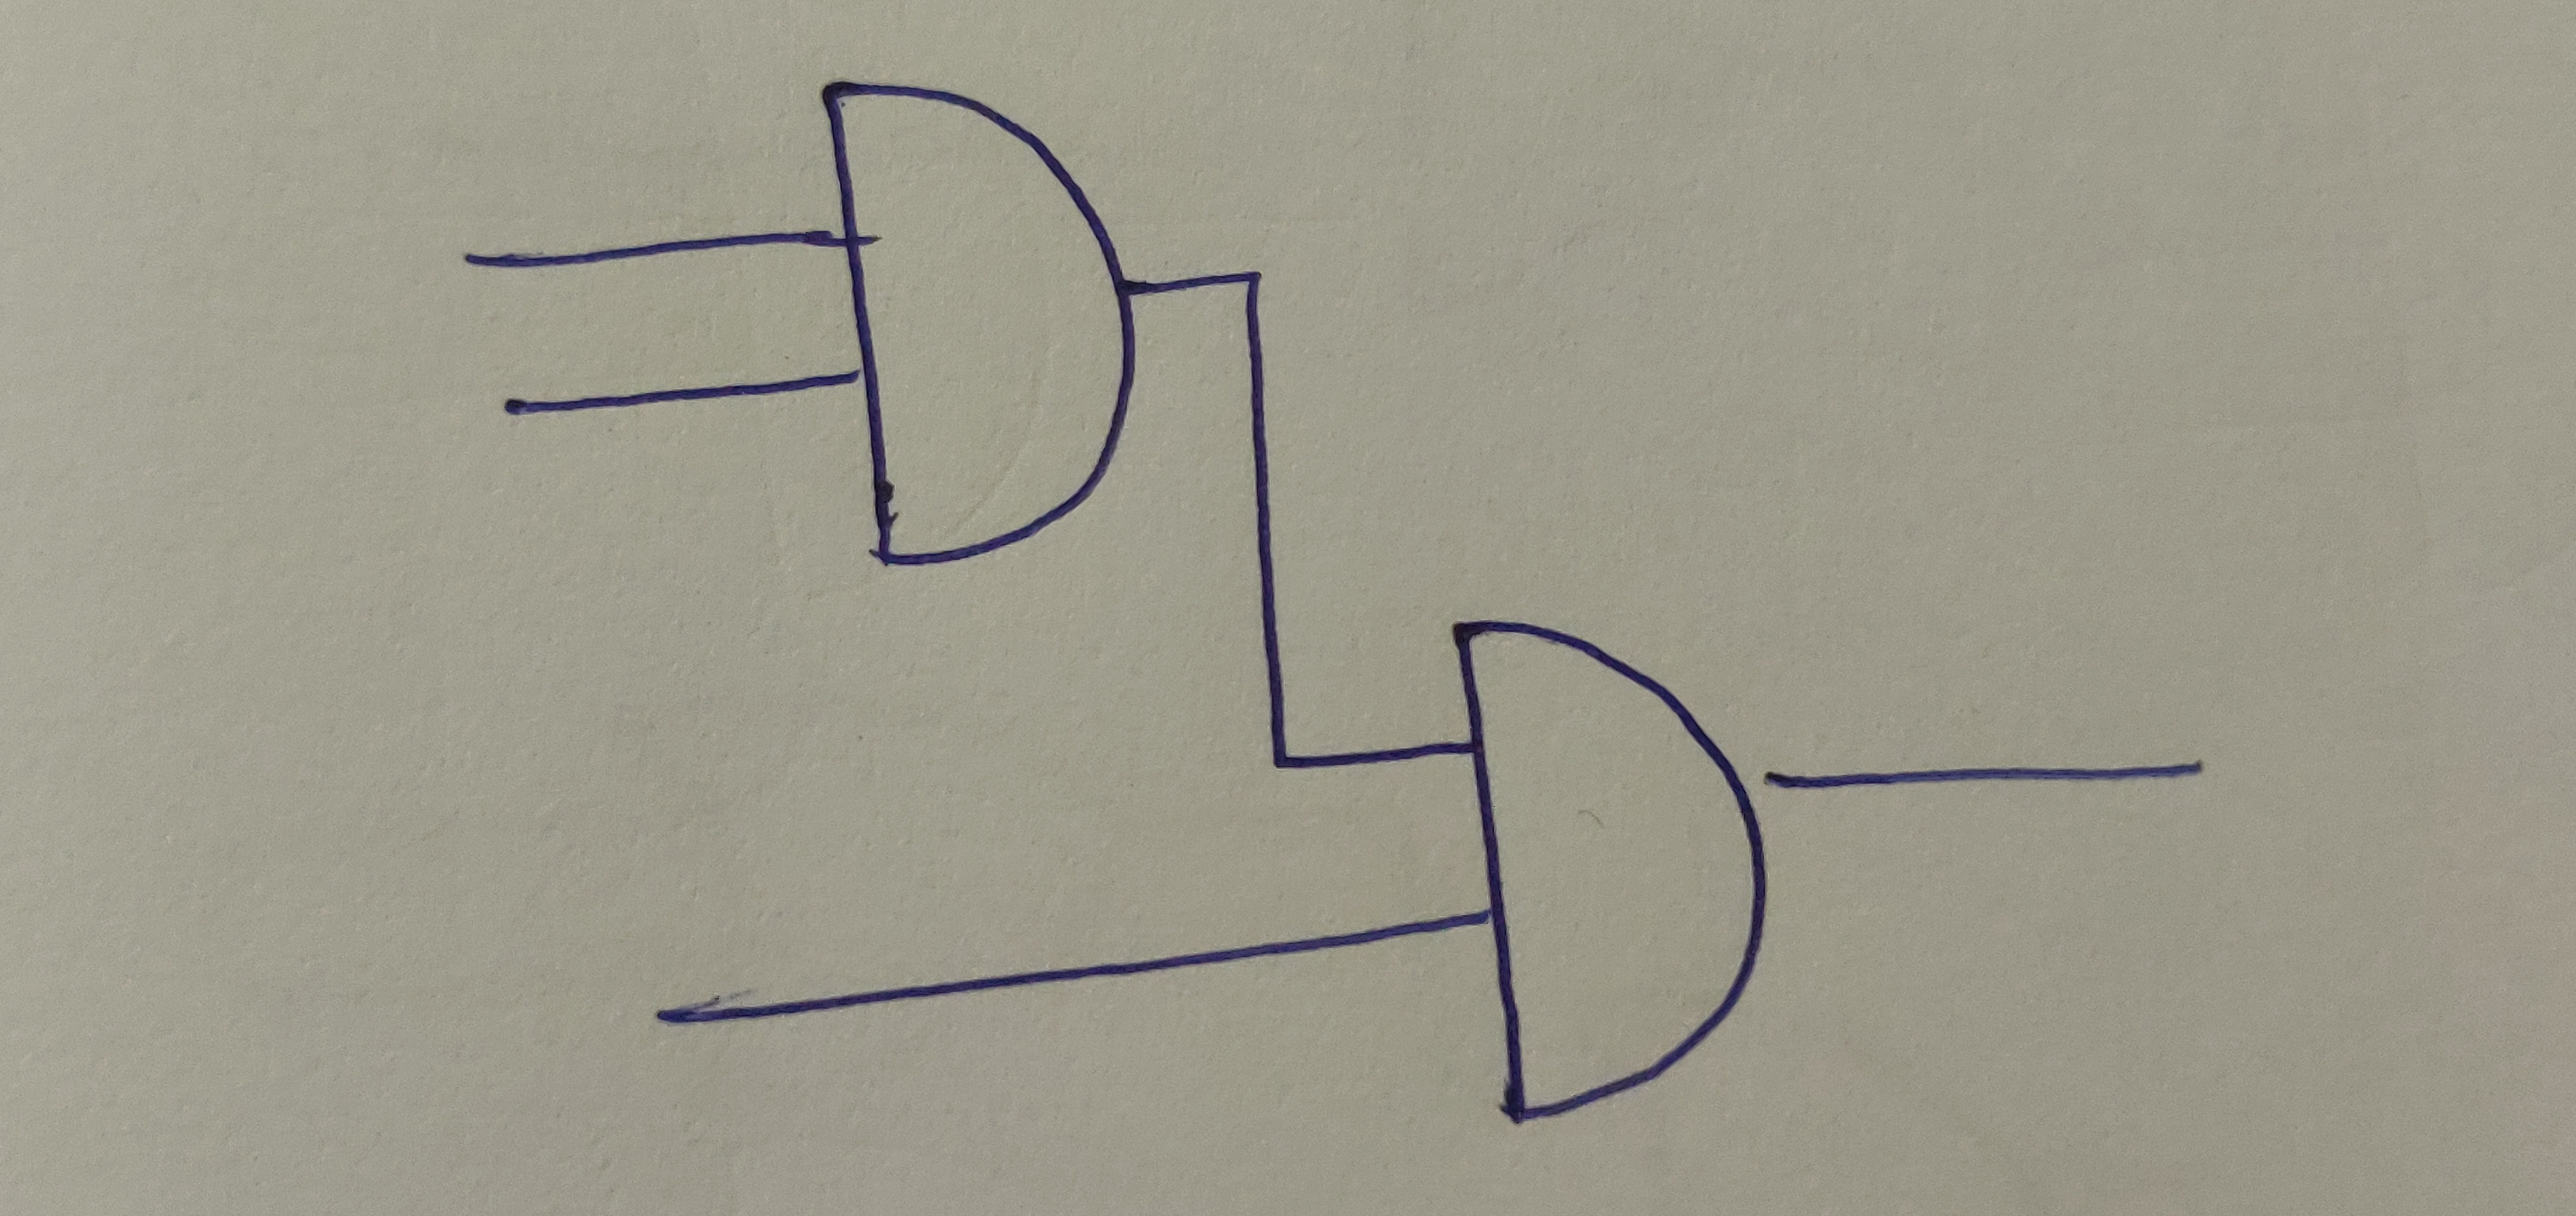and: (1451, 618, 1778, 1122), (826, 82, 1140, 562)
